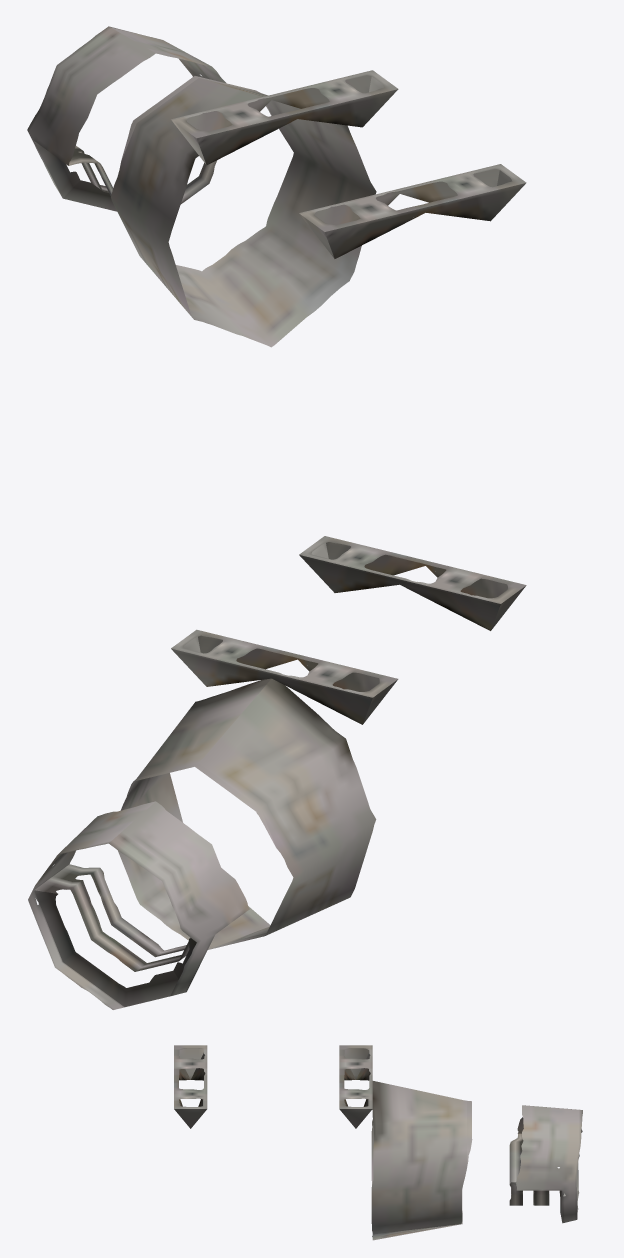
The model's file is hutt_fighter_medium_engine_s01_l2.fbx.
The picture shows the model from 3 angles, top to bottom: view 1: azimuth 30°, elevation 25°; view 2: azimuth 150°, elevation 25°; view 3: azimuth 270°, elevation 25°; orthographic projection. The views are drawn at different scales.
Parts seen in each view (by area): view 1: mesh_node; view 2: mesh_node; view 3: mesh_node.
Boxes of the visible parts, x1,y1,x2,y2 form: mesh_node: [27, 26, 526, 347]; mesh_node: [28, 536, 526, 1009]; mesh_node: [174, 1045, 582, 1240].
Bounding box in the file's own units: 2.64 × 3.07 × 9.96.
